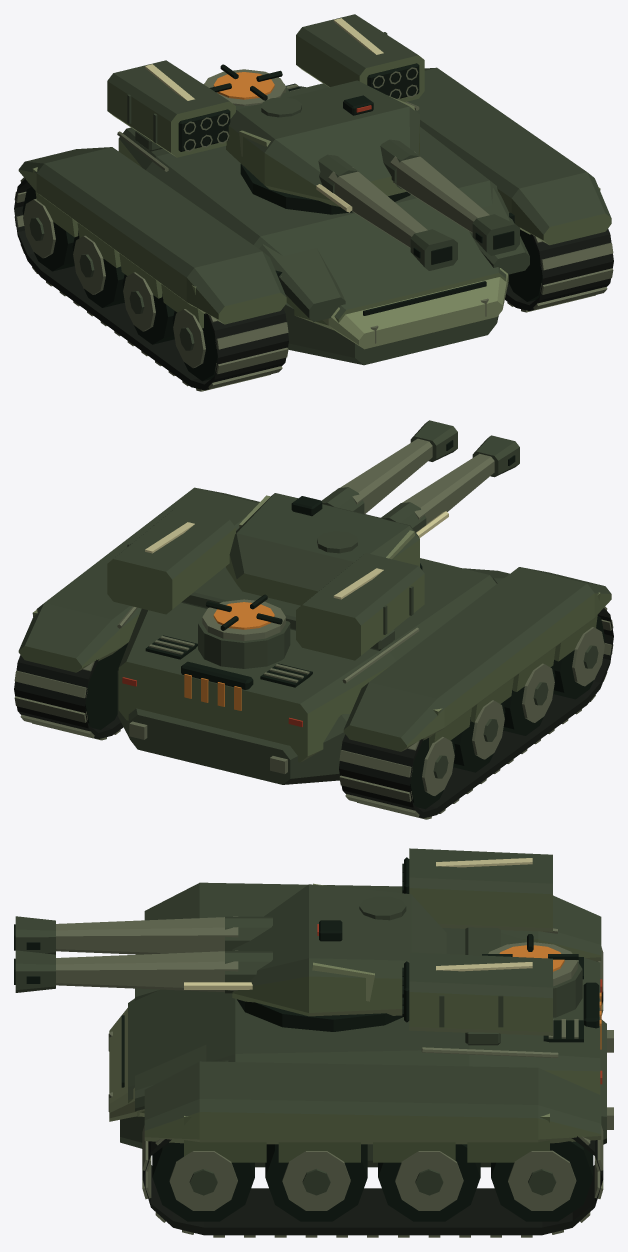
File: boss_field.glb
3 renders of one model, top to bottom at view 1: azimuth 30°, elevation 25°; view 2: azimuth 150°, elevation 25°; view 3: azimuth 270°, elevation 25°, orthographic. The views are drawn at different scales.
Visible parts, largest first — view 1: Component_LeftDrive, Body, Component_GunPod, Component_RightDrive, Component_MissilePod, Component_Core; view 2: Component_LeftDrive, Body, Component_GunPod, Component_MissilePod, Component_RightDrive, Component_Core; view 3: Component_RightDrive, Component_GunPod, Body, Component_MissilePod, Component_LeftDrive, Component_Core.
Boxes of the visible parts, <box> form: Component_LeftDrive: <box>14,147,288,391</box>; Body: <box>117,83,529,365</box>; Component_GunPod: <box>226,80,519,270</box>; Component_RightDrive: <box>407,67,613,312</box>; Component_MissilePod: <box>107,14,424,157</box>; Component_Core: <box>203,64,288,106</box>; Component_LeftDrive: <box>339,567,613,819</box>; Body: <box>117,558,509,784</box>; Component_GunPod: <box>226,420,519,605</box>; Component_MissilePod: <box>107,507,424,660</box>; Component_RightDrive: <box>14,487,259,740</box>; Component_Core: <box>181,594,290,710</box>; Component_RightDrive: <box>142,1061,603,1237</box>; Component_GunPod: <box>14,883,446,1031</box>; Body: <box>108,928,613,1167</box>; Component_MissilePod: <box>402,848,552,1045</box>; Component_LeftDrive: <box>144,882,603,1015</box>; Component_Core: <box>482,934,601,1049</box>.
Bounding box in the file's own units: 11.34 × 5.12 × 12.81.
Materials: 1 (1 with a texture image).
